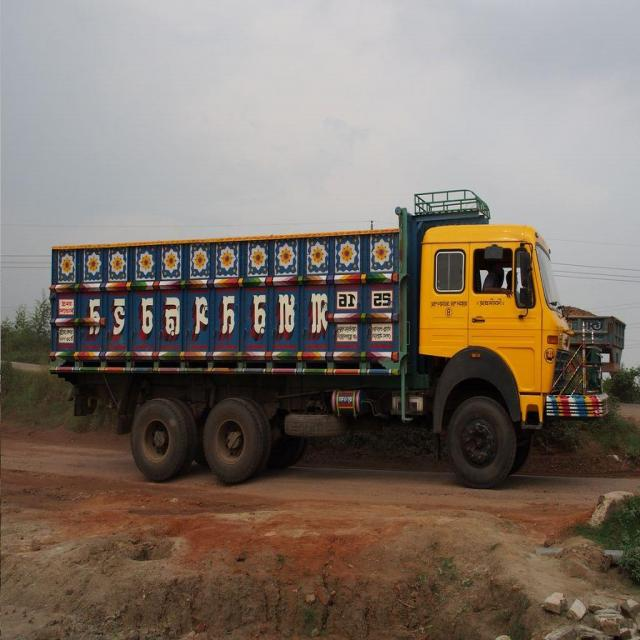truck: (34, 182, 622, 502)
